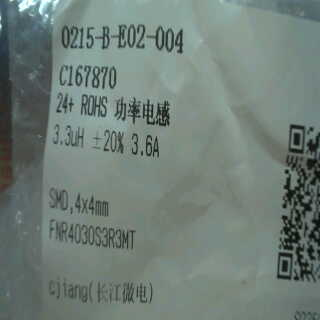3.3uH: (47, 116, 93, 155)
